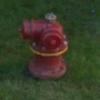a fire hydrant: (22, 13, 68, 80)
